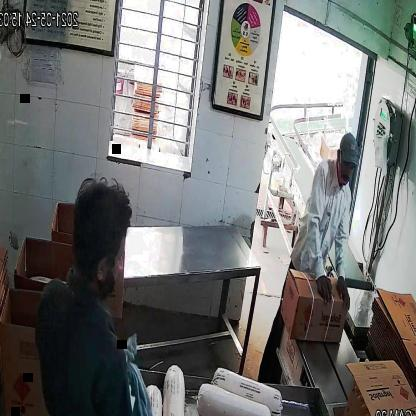goggles: (340, 159, 358, 176)
